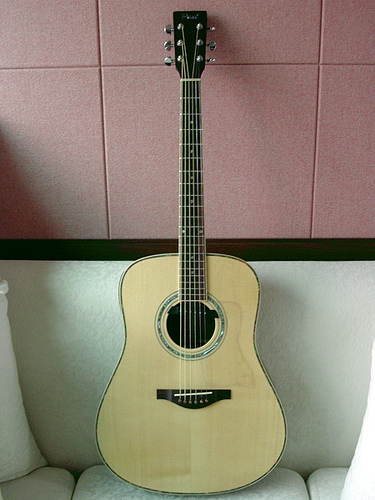guitar: (93, 8, 287, 496)
